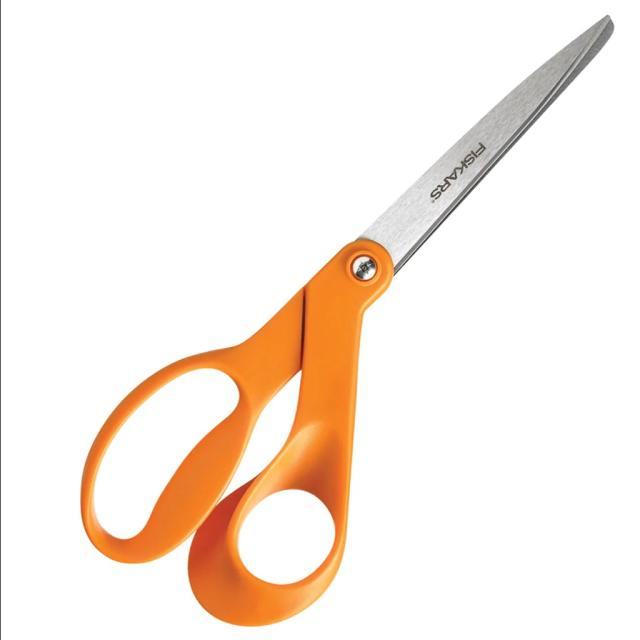scissor: (61, 7, 626, 640)
